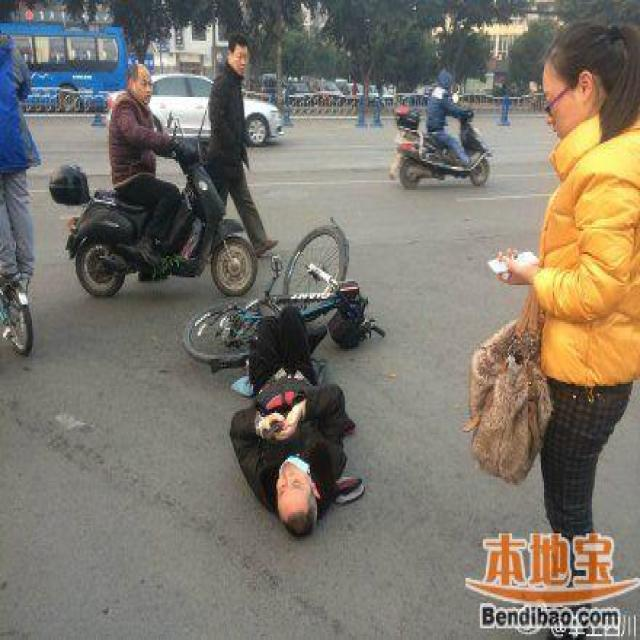fall: (228, 308, 364, 534)
